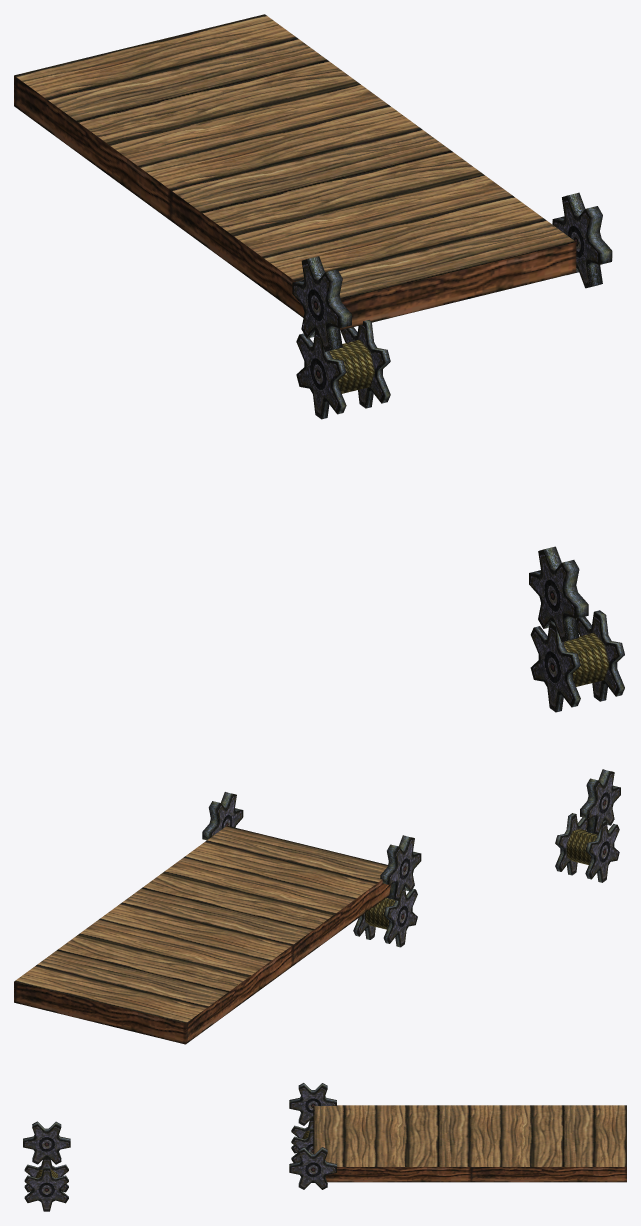
Rendered from LAKETOWN_BRIDGE_ANIM.fbx.
3 renders of one model, top to bottom at view 1: azimuth 30°, elevation 25°; view 2: azimuth 150°, elevation 25°; view 3: azimuth 270°, elevation 25°, orthographic. The views are drawn at different scales.
Parts seen in each view (by area): view 1: LAKETOWN_BRIDGE_ANIM; view 2: LAKETOWN_BRIDGE_ANIM; view 3: LAKETOWN_BRIDGE_ANIM.
Boxes of the visible parts, x1,y1,x2,y2 form: LAKETOWN_BRIDGE_ANIM: (14, 14, 624, 712); LAKETOWN_BRIDGE_ANIM: (14, 769, 620, 1044); LAKETOWN_BRIDGE_ANIM: (23, 1083, 626, 1211).
Size of the model in its own units: 33143 by 27788 by 116307.
Materials: 5 (5 with a texture image).
